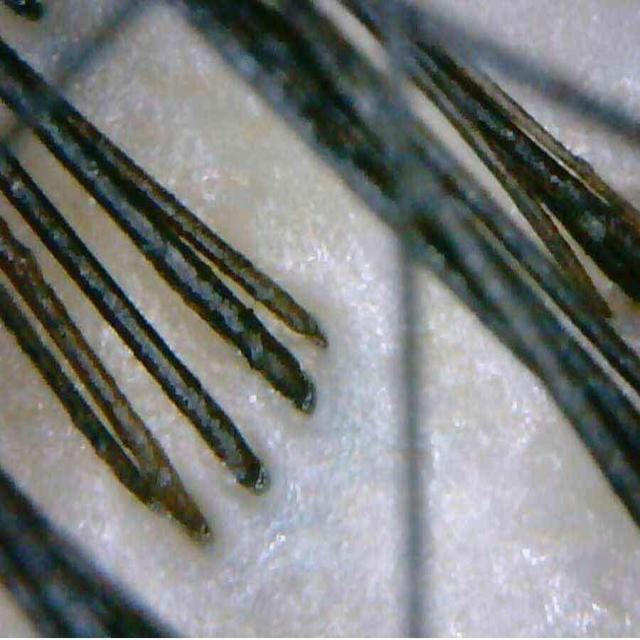ds: (271, 217, 404, 364), (420, 298, 508, 396), (254, 464, 322, 573), (525, 567, 618, 640), (152, 129, 224, 207)
